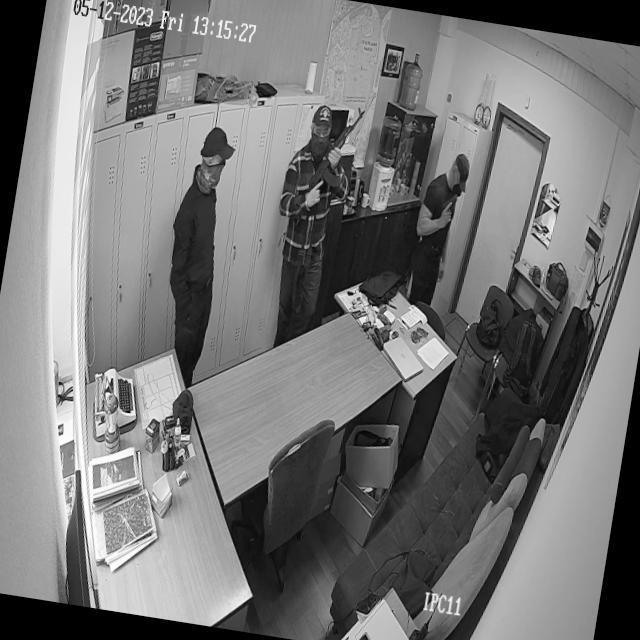gun: (300, 99, 364, 217), (437, 190, 460, 230)
person: (152, 112, 245, 356)
person with a gun: (260, 79, 370, 314), (400, 136, 478, 301)
